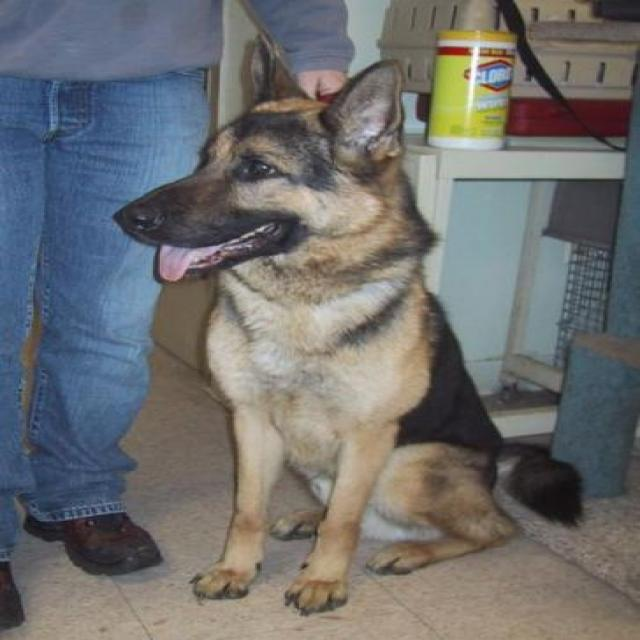dogs: (111, 34, 588, 616)
